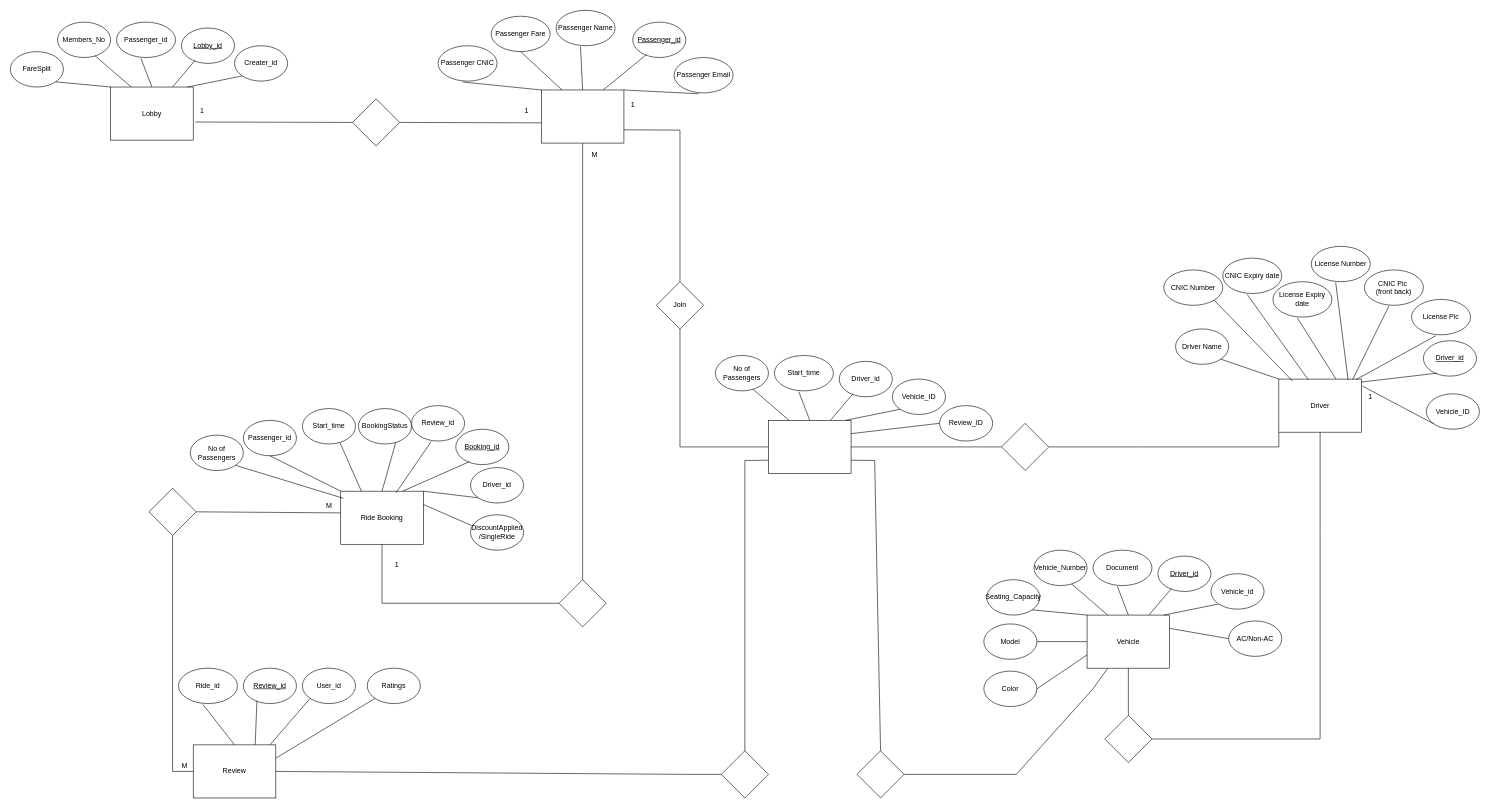
Image size: 1490x808. Some labels were removed from this diagram. The shapes that lost their labels are listed below. From the top down, each one's centre as x and y in pixels, then its label:
(376,122): creates
(582,116): Passenger
(809,446): Carpool lobby
(1025,447): Create
(172,511): have
(582,603): Books
(1128,739): owns
(744,774): Has
(880,774): Shows
